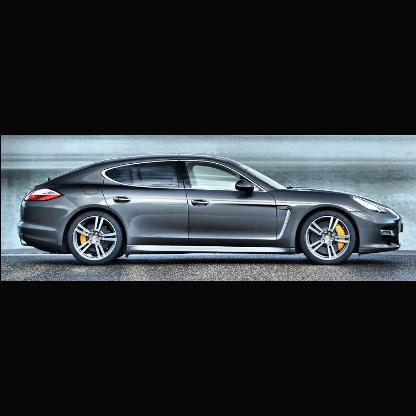Porsche Panamera Sedan 2012: (18, 155, 407, 268)
